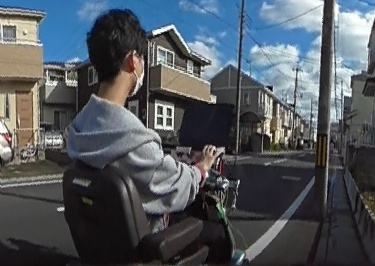person: (85, 6, 211, 239)
